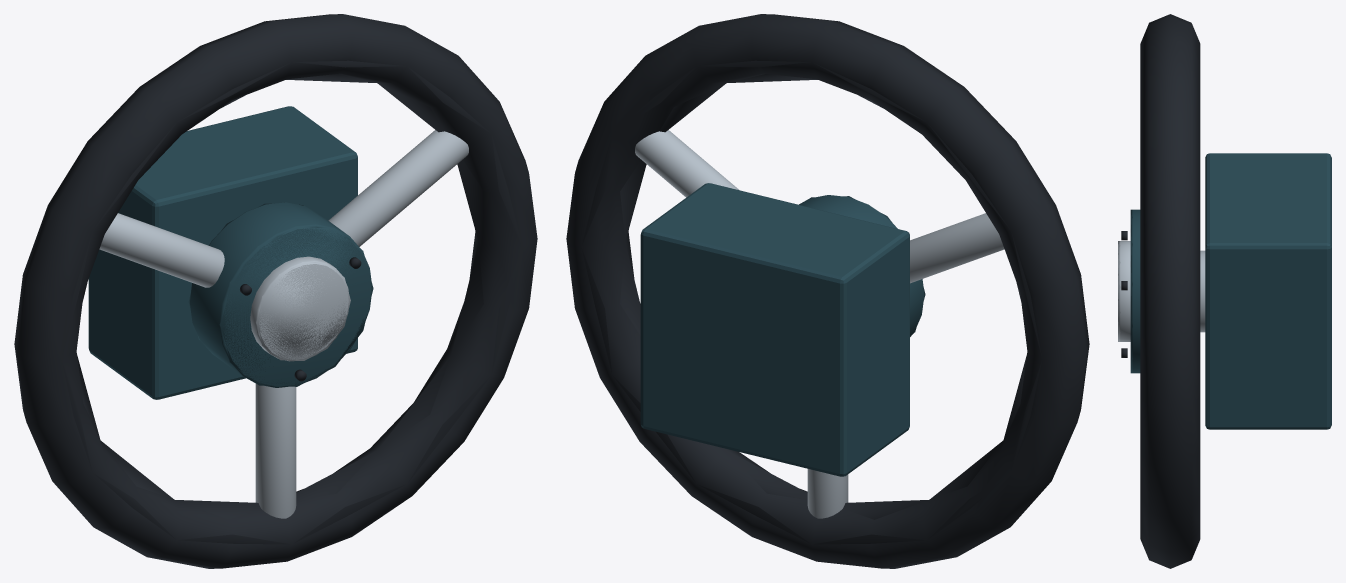
File: wheel-three-spoke.glb
The picture shows the model from 3 angles, left to right: view 1: azimuth 30°, elevation 25°; view 2: azimuth 150°, elevation 25°; view 3: azimuth 270°, elevation 25°; orthographic projection. The views are drawn at different scales.
Visible parts, largest first — view 1: rim, column, hub, rim.001, hub_inset, hub.001, spoke0, spoke2, hub_inset.001, spoke1; view 2: rim, column, rim.001, spoke1, spoke0, hub, spoke2; view 3: column, rim, hub, hub_inset, shaft.
Part boxes in pixels (x1=…): rim: x1=14, y1=14, x2=537, y2=568; column: x1=88, y1=106, x2=357, y2=399; hub: x1=190, y1=202, x2=371, y2=387; rim.001: x1=61, y1=60, x2=522, y2=544; hub_inset: x1=250, y1=256, x2=348, y2=361; hub.001: x1=188, y1=203, x2=373, y2=386; spoke0: x1=328, y1=130, x2=468, y2=246; spoke2: x1=255, y1=384, x2=296, y2=518; hub_inset.001: x1=256, y1=262, x2=350, y2=360; spoke1: x1=99, y1=213, x2=224, y2=287; rim: x1=566, y1=14, x2=1089, y2=568; column: x1=640, y1=183, x2=909, y2=476; rim.001: x1=581, y1=60, x2=1042, y2=544; spoke1: x1=910, y1=213, x2=1004, y2=283; spoke0: x1=635, y1=130, x2=739, y2=197; hub: x1=799, y1=195, x2=924, y2=336; spoke2: x1=807, y1=469, x2=848, y2=518; column: x1=1205, y1=153, x2=1331, y2=429; rim: x1=1140, y1=14, x2=1200, y2=568; hub: x1=1130, y1=209, x2=1140, y2=373; hub_inset: x1=1118, y1=241, x2=1130, y2=341; shaft: x1=1200, y1=250, x2=1205, y2=332.
Size of the model in its own units: 0.352 by 0.352 by 0.135.
